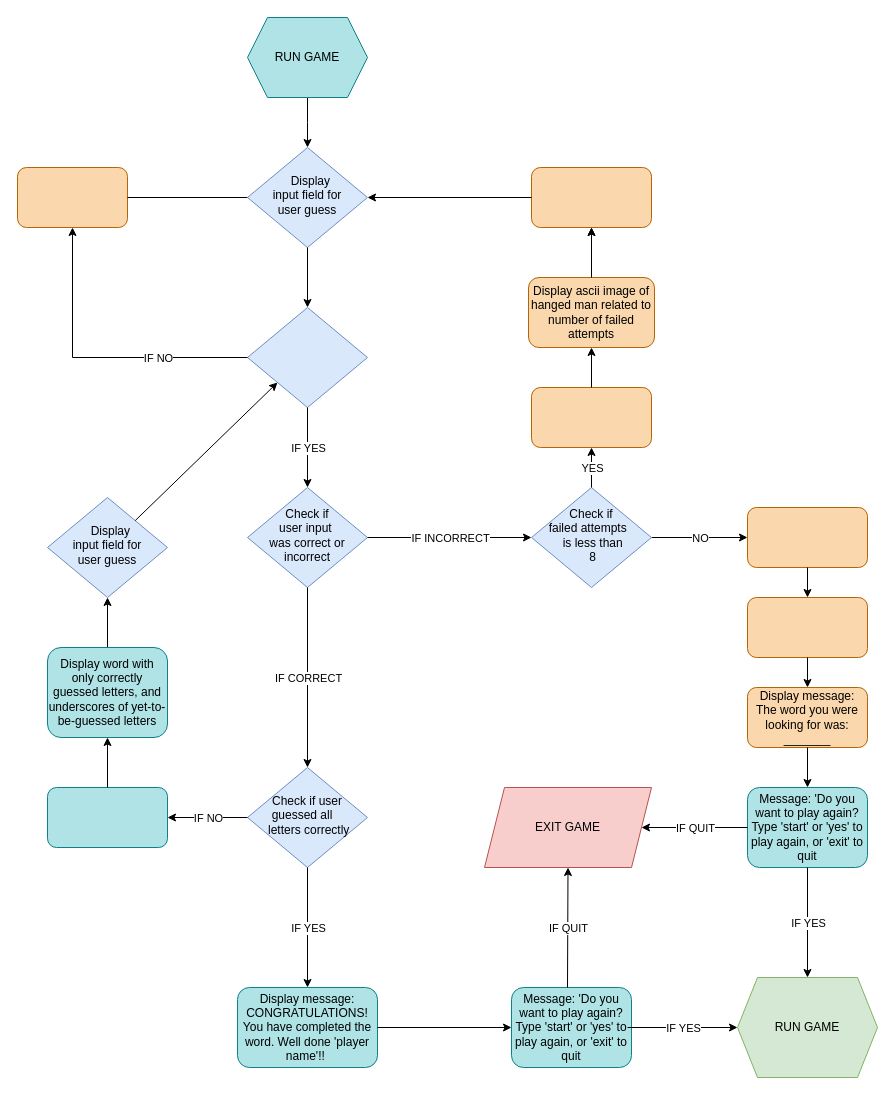
The diagram is 895 pixels wide and 1095 high, and some of its shapes have lost their labels. Each missing label, with the centre of its shape:
"Check if user input is valid" belongs at pixel 307 357.
"Display ascii art of fully hanged man" belongs at pixel 807 627.
"Display message: 'Please only make use of lower-case letters" belongs at pixel 72 197.
"Display message: 'Sorry, you have run out of turns" belongs at pixel 807 537.
"Display message: Very good, you have guessed correct! Lets go again" belongs at pixel 107 817.
"Display number of failed attempts" belongs at pixel 591 417.
"Display: Sorry, you guessed wrong. Lets try again" belongs at pixel 591 197.
